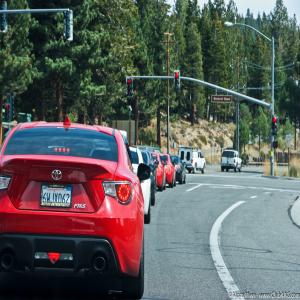Vehicle-registration-plate: (41, 184, 73, 210)
